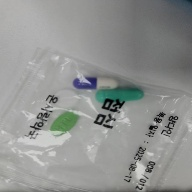러키펜정: (54, 89, 79, 109)
씨엠지세파클러캡슐: (73, 77, 118, 90)
에르도캡슐: (94, 88, 145, 103)
휴티렌정: (50, 110, 78, 136)
